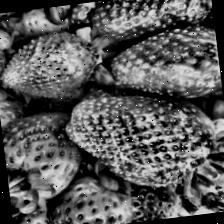Powdery Mildew Fruit: (60, 82, 222, 198), (104, 23, 222, 108), (0, 25, 105, 103)
